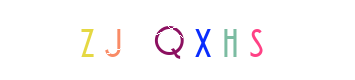7: (137, 0, 217, 80)
H: (163, 0, 243, 80)
J: (129, 0, 209, 80)
Q: (149, 0, 229, 80)
S: (186, 0, 266, 80)
X: (153, 0, 233, 80)
Z: (47, 0, 127, 80)
